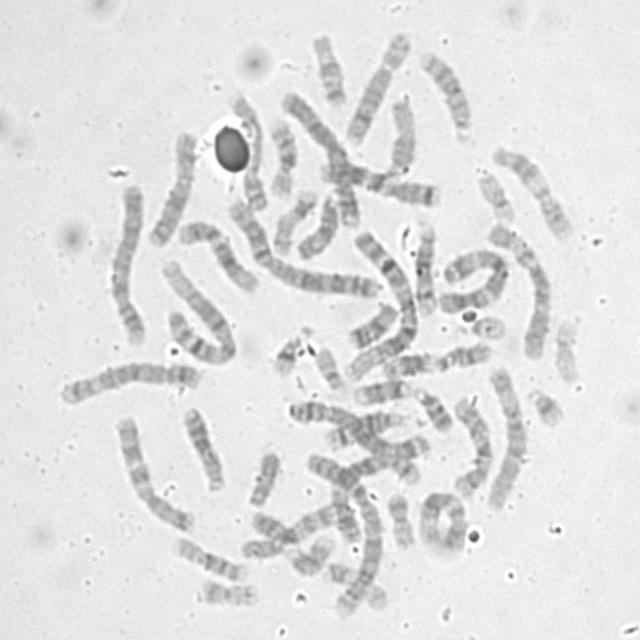A1: (338, 222, 422, 383), (154, 251, 240, 367)
A2: (220, 190, 385, 300), (298, 442, 386, 618)
A3: (326, 434, 441, 545), (432, 241, 512, 314)
B4: (274, 82, 364, 232), (102, 174, 149, 346)
B5: (280, 393, 426, 484), (53, 353, 205, 408)
C10: (236, 496, 340, 560), (446, 388, 496, 499)
C11: (485, 138, 575, 242), (374, 334, 494, 379)
C12: (170, 211, 262, 295), (412, 484, 471, 554)
C6: (480, 214, 554, 361), (477, 360, 529, 513)
C7: (107, 408, 198, 534), (312, 153, 442, 209)
C8: (338, 24, 413, 147), (222, 85, 270, 213)
C9: (242, 503, 338, 577), (354, 374, 458, 442)
D13: (414, 43, 476, 145), (174, 398, 227, 493)
D14: (318, 402, 406, 453), (406, 216, 441, 318)
D15: (288, 185, 342, 262), (378, 88, 418, 177)
E16: (166, 530, 248, 584), (260, 108, 300, 198)
E17: (318, 554, 390, 612), (266, 181, 320, 256)
E18: (304, 25, 350, 107), (340, 294, 400, 350)
F19: (469, 162, 517, 225), (547, 309, 582, 385)
F20: (192, 572, 260, 608), (381, 485, 416, 550)
G21: (266, 322, 310, 379), (520, 378, 567, 429)
G22: (308, 339, 346, 393), (465, 307, 509, 340)
X: (138, 123, 198, 249)
Y: (240, 444, 284, 509)
